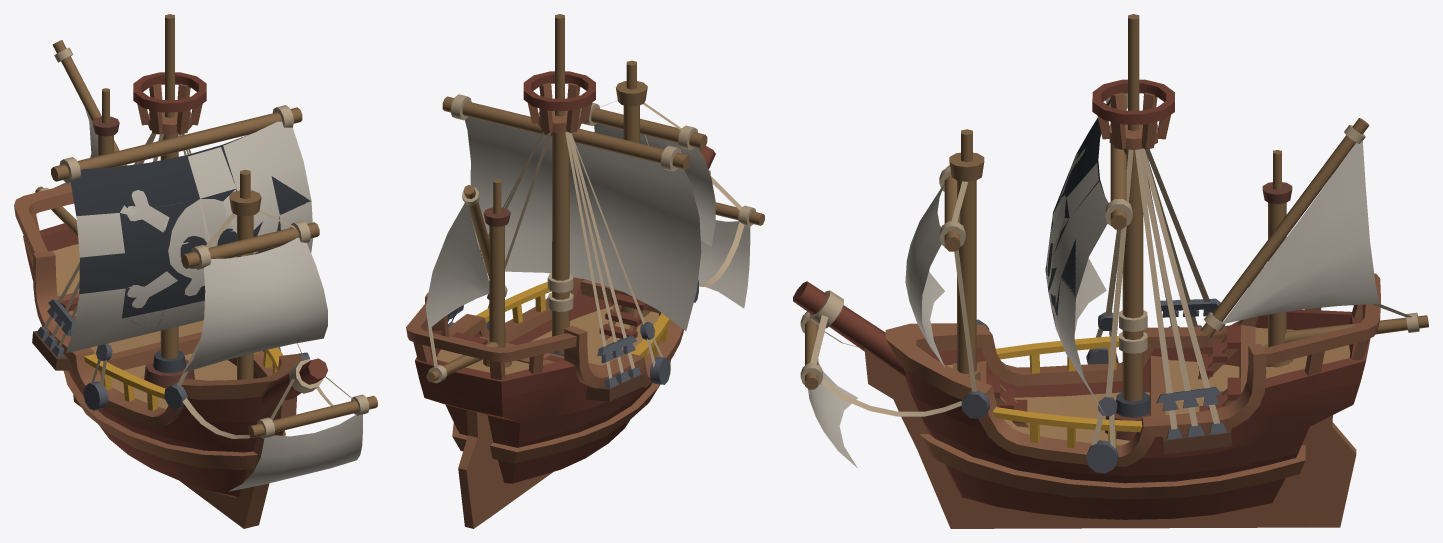
The model's file is Galleon.fbx.
3 views of the same model, side by side, from view 1: azimuth 30°, elevation 25°; view 2: azimuth 150°, elevation 25°; view 3: azimuth 270°, elevation 25° (orthographic). The views are drawn at different scales.
Parts seen in each view (by area): view 1: Galleon, Sails_White, Sails_Black, Upgrade_02, Upgrade_01; view 2: Galleon, Sails_White, Rudder, Upgrade_02, Upgrade_01; view 3: Galleon, Sails_White, Upgrade_02, Rudder, Upgrade_01, Sails_Black.
Part boxes in pixels (box(x1,y1,x2,y2)): Galleon: box(14, 14, 377, 528); Sails_White: box(66, 108, 362, 491); Sails_Black: box(70, 133, 311, 325); Upgrade_02: box(63, 370, 285, 469); Upgrade_01: box(84, 347, 283, 410); Galleon: box(406, 14, 764, 509); Sails_White: box(425, 117, 750, 330); Rudder: box(458, 409, 499, 528); Upgrade_02: box(452, 359, 671, 463); Upgrade_01: box(476, 282, 670, 364); Galleon: box(793, 14, 1428, 528); Sails_White: box(808, 140, 1379, 468); Upgrade_02: box(919, 434, 1305, 499); Rudder: box(1283, 415, 1356, 527); Upgrade_01: box(993, 336, 1142, 448); Sails_Black: box(1045, 99, 1110, 326).
Size of the model in its own units: 433 by 764 by 866.
